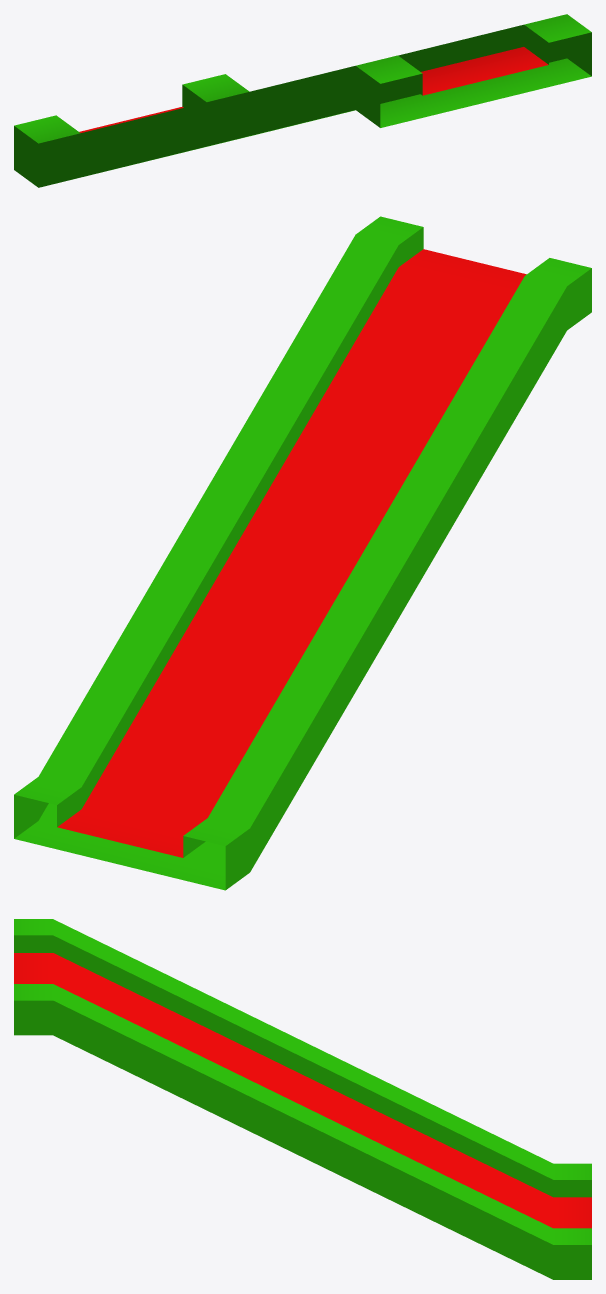
Rendered from modular_pieces_center_elevate_steep_fixed.FBX.
3 views of the same model, one above another, from view 1: azimuth 30°, elevation 25°; view 2: azimuth 150°, elevation 25°; view 3: azimuth 270°, elevation 25° (orthographic). The views are drawn at different scales.
Parts seen in each view (by area): view 1: piece_new_center002; view 2: piece_new_center002; view 3: piece_new_center002.
Boxes of the visible parts, bbox=[...] form: piece_new_center002: bbox=[14, 14, 591, 187]; piece_new_center002: bbox=[14, 216, 591, 890]; piece_new_center002: bbox=[14, 919, 591, 1279].
Size of the model in its own units: 100 by 160 by 300.
